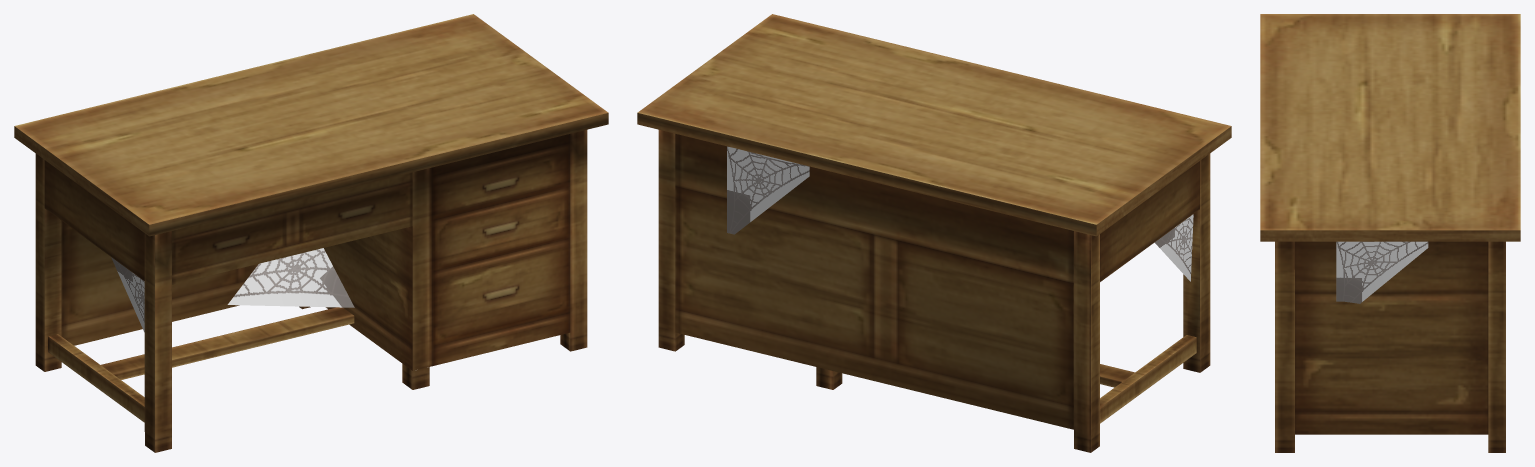
File: a_SWGdesk02b.glb
3 views of the same model, side by side, from view 1: azimuth 30°, elevation 25°; view 2: azimuth 150°, elevation 25°; view 3: azimuth 270°, elevation 25° (orthographic). The views are drawn at different scales.
Visible parts, largest first — view 1: a_SWGdesk02b; view 2: a_SWGdesk02b; view 3: a_SWGdesk02b.
Part boxes in pixels (left/top/right/bottom): a_SWGdesk02b: left=14, top=14, right=608, bottom=452; a_SWGdesk02b: left=637, top=14, right=1231, bottom=452; a_SWGdesk02b: left=1260, top=14, right=1520, bottom=452.
Bounding box in the file's own units: 1.98 × 0.9763 × 1.01.
2 materials, 2 textured.
